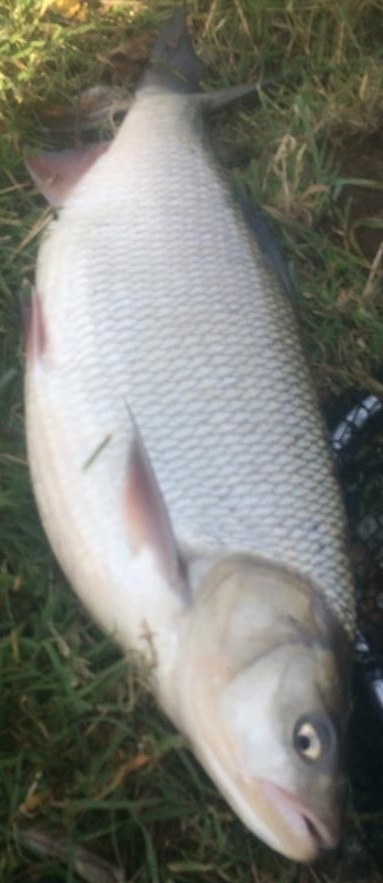Aspius aspius: (20, 20, 363, 863)
